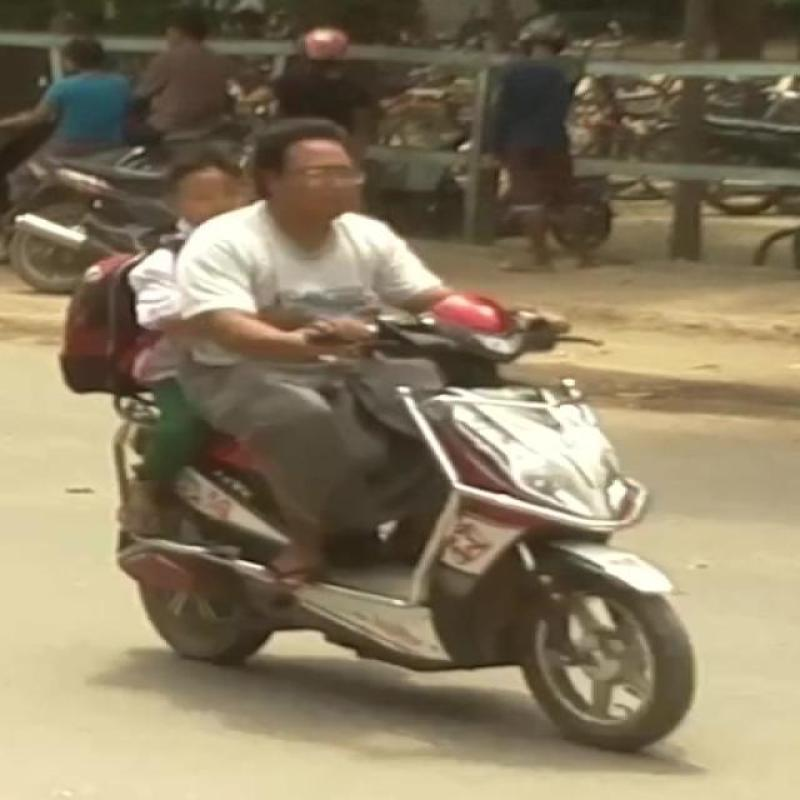nohelmet: (264, 100, 382, 240), (172, 117, 254, 248)
